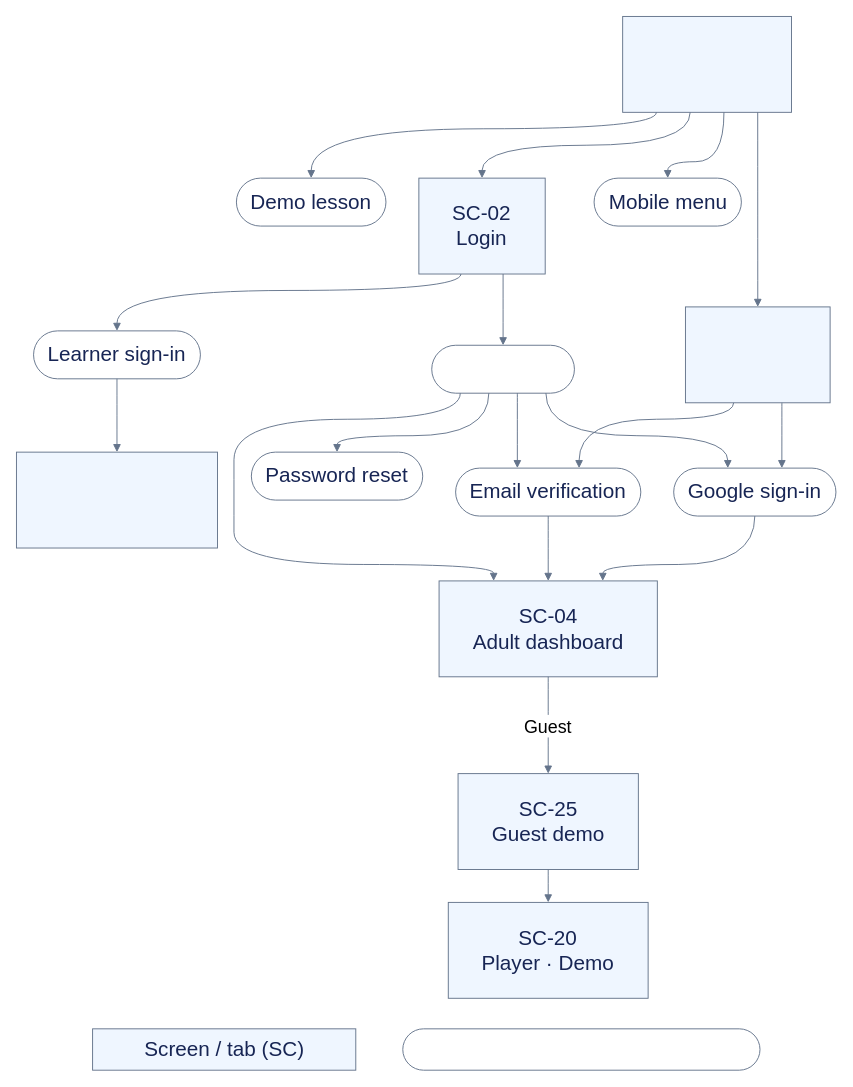
Image size: 853x1087. Some labels were removed from this diagram. Each missing label, with the centre of its shape:
Action / form / dialog: the point at 581,1049
Adult sign-in: the point at 502,368
SC-01 Homepage: the point at 706,64
SC-03 Register: the point at 757,354
SC-12 Kid dashboard: the point at 117,499
